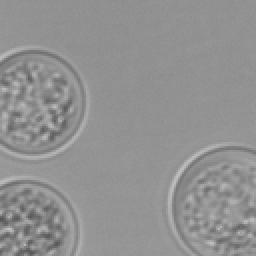picoshell: (0, 46, 88, 160), (166, 144, 254, 254), (0, 176, 78, 254)
